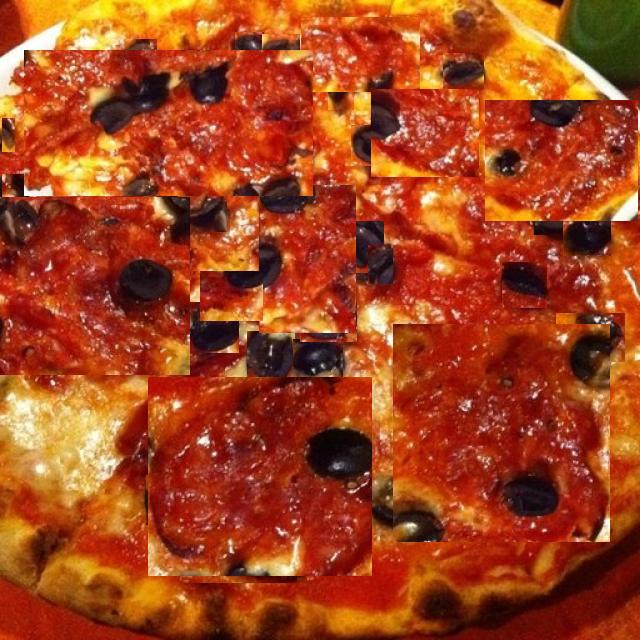olive: (180, 548, 307, 583), (366, 477, 432, 535), (556, 313, 625, 362), (146, 475, 210, 525), (247, 331, 295, 386), (334, 221, 384, 273), (189, 302, 239, 353), (15, 260, 72, 302), (444, 347, 498, 391), (300, 302, 357, 342), (502, 262, 547, 308), (563, 213, 611, 256), (293, 339, 343, 380), (152, 194, 190, 246), (534, 188, 576, 235), (351, 126, 397, 168), (178, 193, 227, 232), (89, 111, 138, 149), (130, 128, 170, 174), (2, 174, 29, 240), (191, 136, 228, 179), (443, 53, 484, 89), (262, 34, 300, 72), (120, 39, 157, 71), (496, 138, 522, 178), (328, 71, 354, 110), (368, 245, 393, 284), (235, 32, 264, 63), (173, 248, 197, 271), (2, 118, 15, 152)
pepperoni: (393, 324, 610, 542), (148, 377, 372, 576), (24, 50, 313, 196), (0, 197, 190, 375), (485, 100, 638, 221), (259, 185, 356, 333), (371, 89, 479, 177), (302, 17, 422, 92), (200, 271, 263, 321)
pizza: (0, 0, 640, 640)
